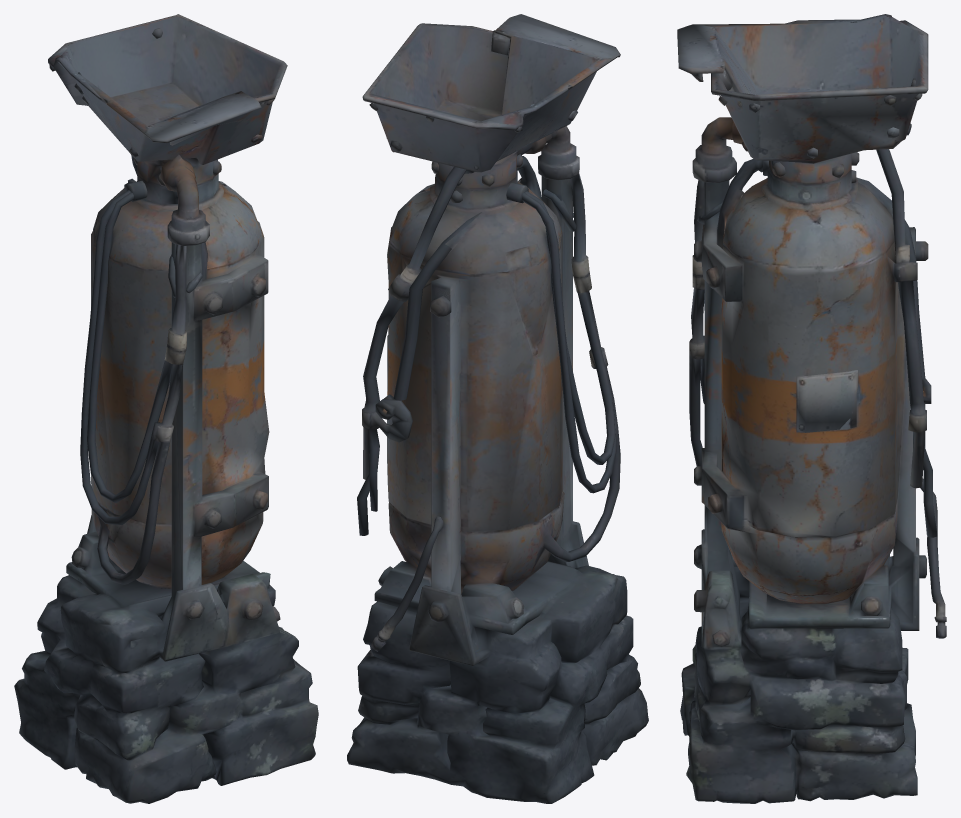
The model's file is tower-first.glb.
3 views of the same model, side by side, from view 1: azimuth 30°, elevation 25°; view 2: azimuth 150°, elevation 25°; view 3: azimuth 270°, elevation 25° (orthographic). The views are drawn at different scales.
Parts seen in each view (by area): view 1: tripo_node_6de2a5a0-3597-4bbf-95ce-43dccbfa7069; view 2: tripo_node_6de2a5a0-3597-4bbf-95ce-43dccbfa7069; view 3: tripo_node_6de2a5a0-3597-4bbf-95ce-43dccbfa7069.
Boxes of the visible parts, left/top/right/bottom form: tripo_node_6de2a5a0-3597-4bbf-95ce-43dccbfa7069: left=14, top=14, right=318, bottom=803; tripo_node_6de2a5a0-3597-4bbf-95ce-43dccbfa7069: left=347, top=14, right=648, bottom=803; tripo_node_6de2a5a0-3597-4bbf-95ce-43dccbfa7069: left=677, top=14, right=946, bottom=803.
Bounding box in the file's own units: 0.3828 × 1.2 × 0.4133.
1 material, 1 textured.
